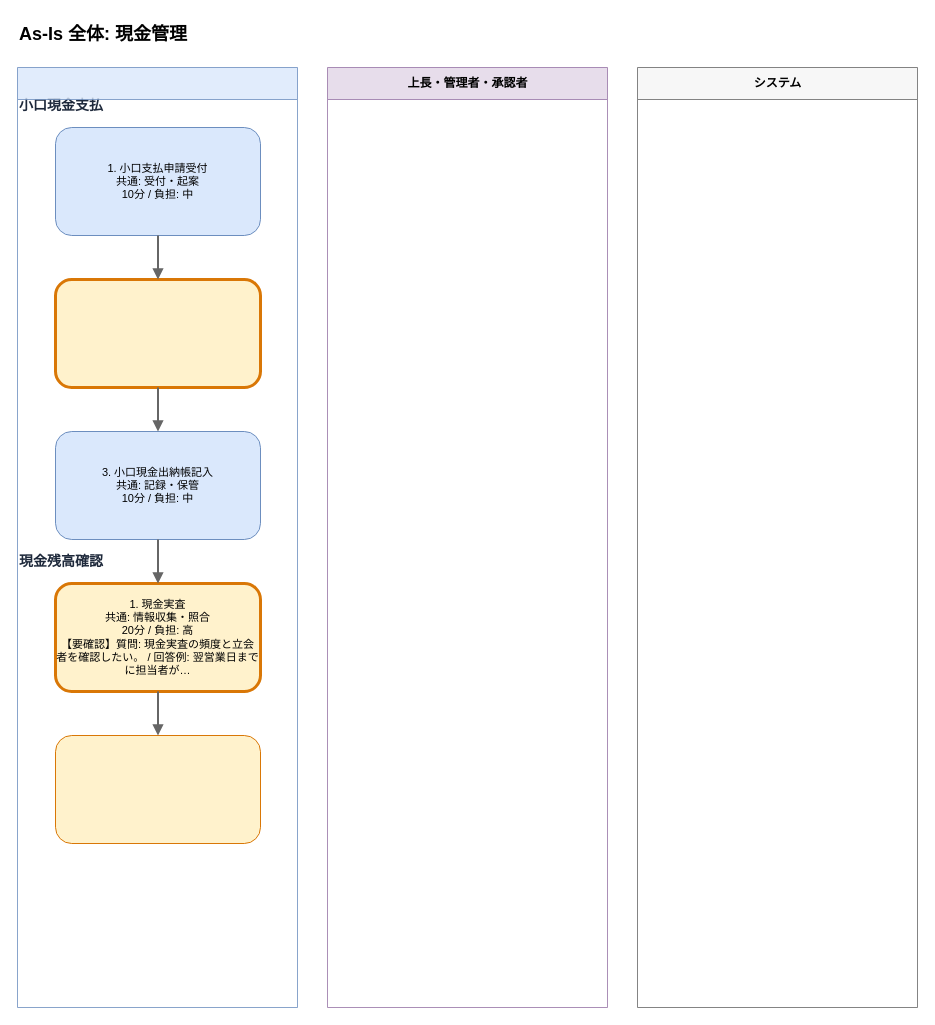
This 935x1025 diagram has some shape labels left out. The shapes that lost their labels are listed below. From the top down, each one's box as (x1, y1, x2, y2) in pixels, then its label:
(54, 278, 262, 388): 2. 証憑確認 共通: 内容確認 10分 / 負担: 高 【要確認】質問: 小口支払時の承認者と領収書原本管理を確認したい。 / 回答例: 担当者が作…
(16, 66, 298, 1008): 担当者・業務部門
(54, 734, 260, 844): 2. 差異報告 共通: 報告・提出 15分 / 負担: 中 【要確認】質問: 差異発生時の報告様式と承認フローを確認したい。 / 回答例: 担当者が作成…
